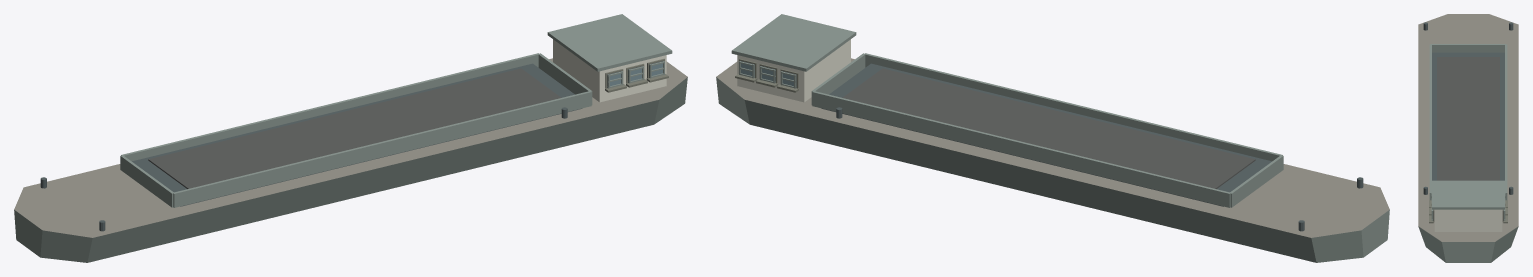
Rendered from river_barge.glb.
3 views of the same model, side by side, from view 1: azimuth 30°, elevation 25°; view 2: azimuth 150°, elevation 25°; view 3: azimuth 270°, elevation 25° (orthographic). The views are drawn at different scales.
Visible parts, largest first — view 1: river_barge; view 2: river_barge; view 3: river_barge.
Part boxes in pixels (left/top/right/bottom): river_barge: left=14, top=14, right=687, bottom=262; river_barge: left=716, top=14, right=1389, bottom=262; river_barge: left=1418, top=14, right=1518, bottom=262.
Size of the model in its own units: 43 by 4.2 by 8.02.
7 materials, 1 textured.
